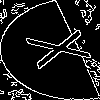X: (24, 25, 100, 69)
